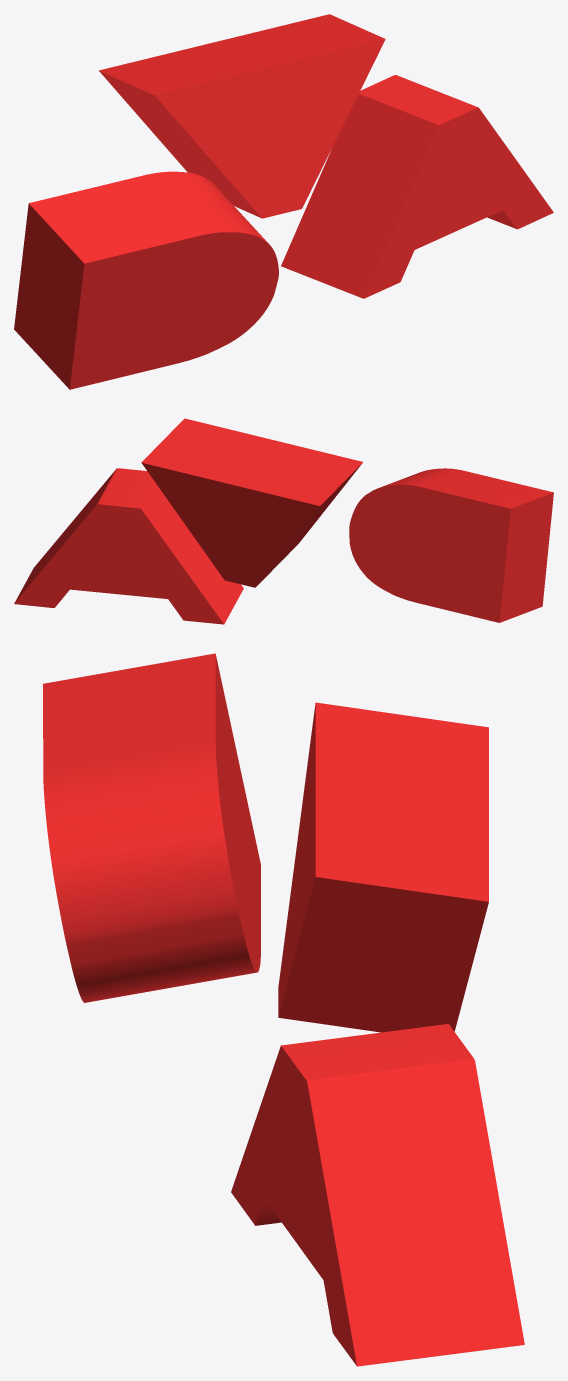
3 views of the same model, one above another, from view 1: azimuth 30°, elevation 25°; view 2: azimuth 150°, elevation 25°; view 3: azimuth 270°, elevation 25° (orthographic). The views are drawn at different scales.
Parts seen in each view (by area): view 1: Слой_1, Слой_1_1 2, Слой_1_3 3, Слой_1_1 3, Слой_1_3 2; view 2: Слой_1, Слой_1_5 3, Слой_1_3 2, Слой_1_5 2, Слой_1_3 3; view 3: Слой_1, Слой_1_3 3, Слой_1_3 2, Слой_1_1 3, Слой_1_1 2.
Boxes of the visible parts, x1=… form: Слой_1: x1=14, y1=171, x2=278, y2=389; Слой_1_1 2: x1=155, y1=39, x2=385, y2=218; Слой_1_3 3: x1=281, y1=75, x2=516, y2=298; Слой_1_1 3: x1=364, y1=107, x2=553, y2=298; Слой_1_3 2: x1=99, y1=14, x2=384, y2=218; Слой_1: x1=349, y1=468, x2=553, y2=622; Слой_1_5 3: x1=14, y1=504, x2=223, y2=624; Слой_1_3 2: x1=141, y1=418, x2=362, y2=585; Слой_1_5 2: x1=141, y1=462, x2=319, y2=587; Слой_1_3 3: x1=14, y1=468, x2=243, y2=623; Слой_1: x1=43, y1=653, x2=260, y2=1002; Слой_1_3 3: x1=255, y1=1024, x2=524, y2=1366; Слой_1_3 2: x1=278, y1=702, x2=488, y2=1032; Слой_1_1 3: x1=231, y1=1046, x2=356, y2=1365; Слой_1_1 2: x1=278, y1=703, x2=315, y2=1016.
Size of what is drawn, in the model's own units: 0.5357 by 0.2044 by 0.253.
